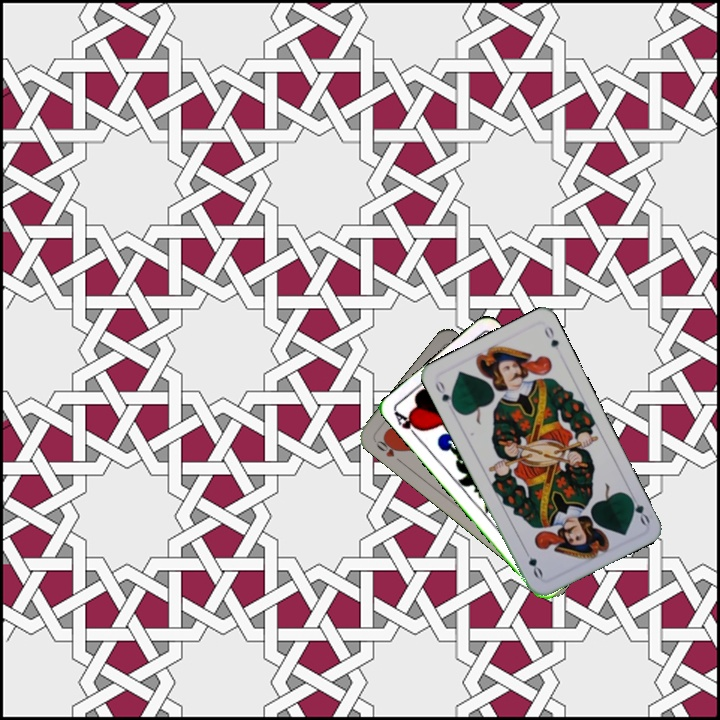GO: (624, 489, 653, 528), (431, 376, 458, 413)
HA: (391, 408, 426, 442)
HO: (371, 434, 405, 466)
